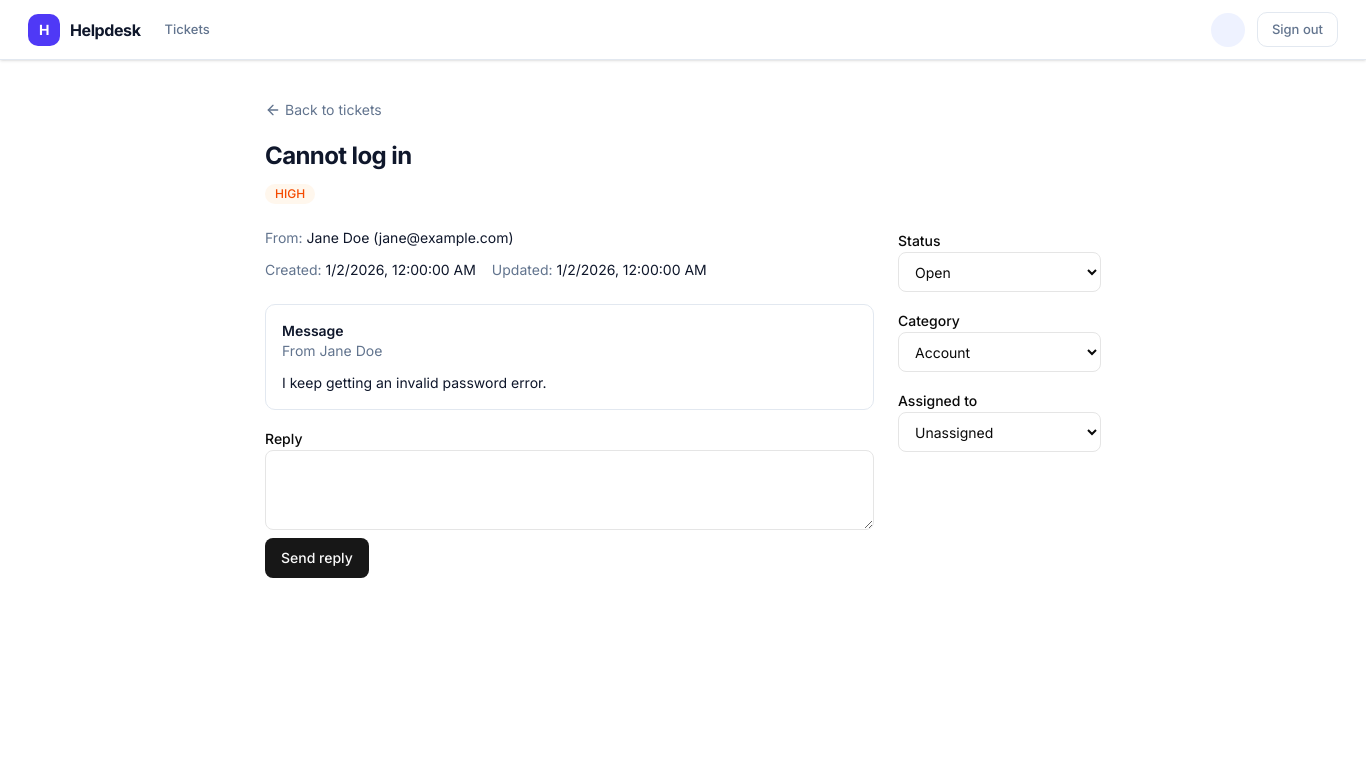
Test: TicketDetailPage › shows the server's error message when a reply fails to send
Expected: the heading "Cannot log in" is shown, [265, 141, 412, 170]
Type "Please try again." into the text box labelled "Reply".
click(570, 490); type("Please try again.")  # box [265, 450, 874, 530]
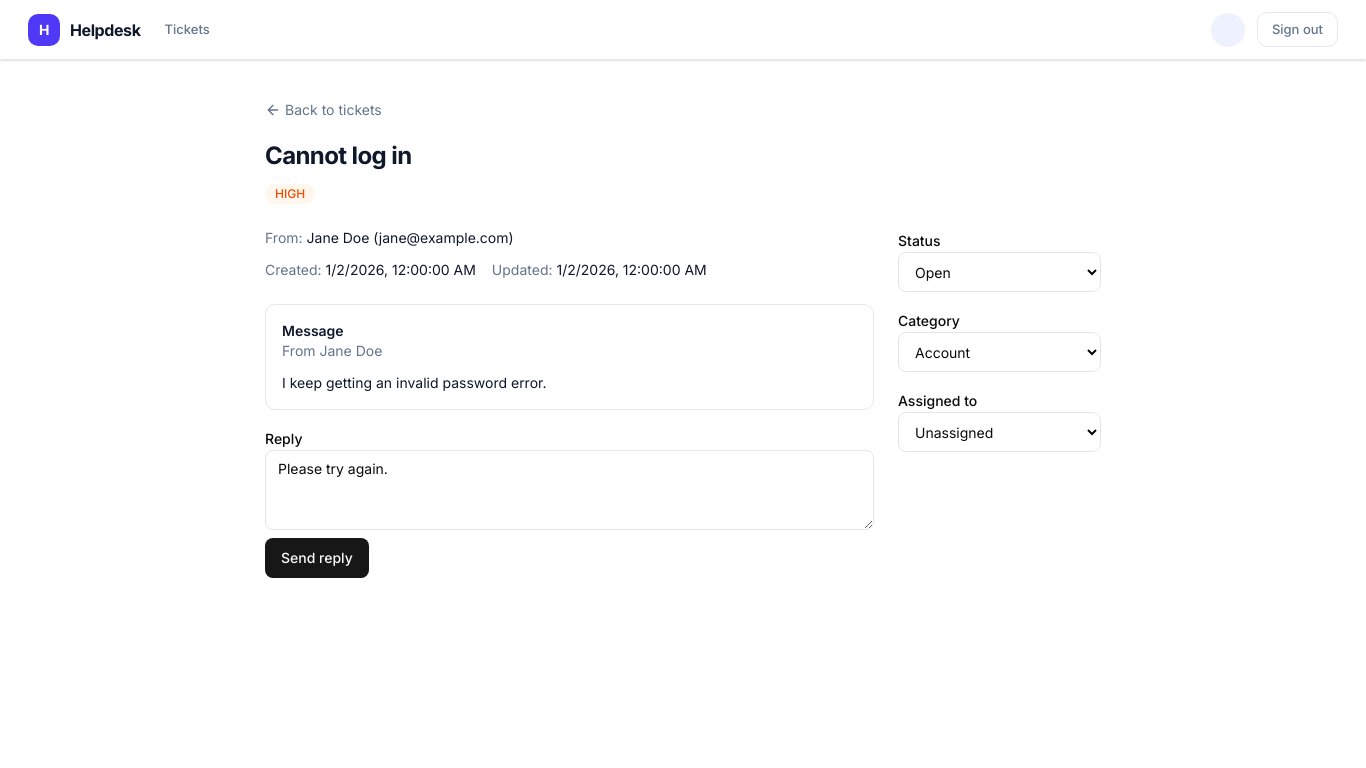
Click the button "Send reply".
click(317, 558)  # box [265, 538, 369, 578]
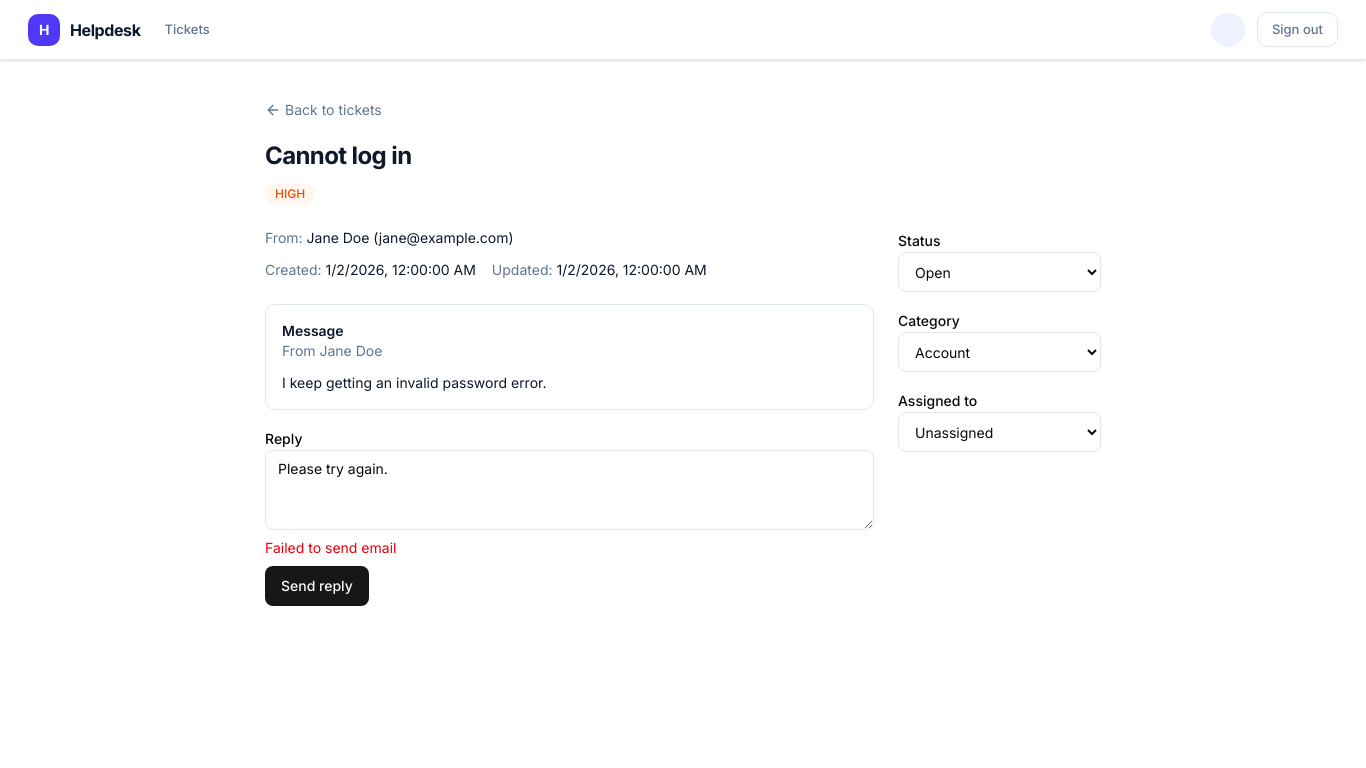
Result: the text "Failed to send email" is shown at [265, 539, 396, 556]
